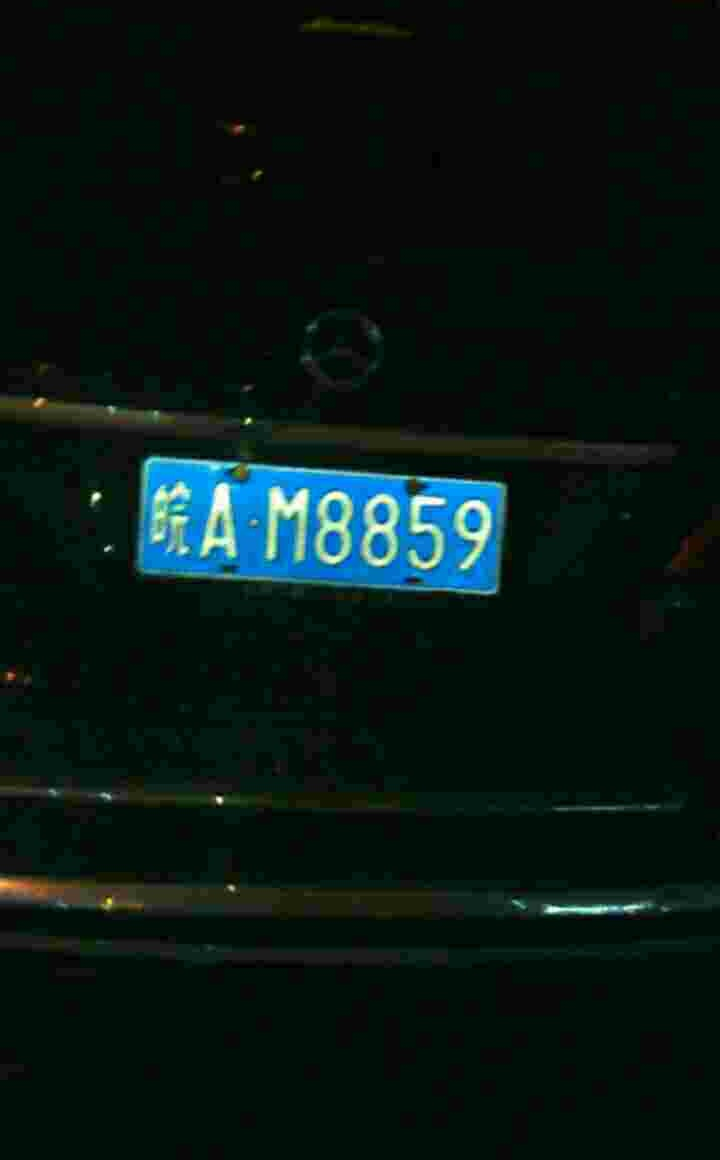car_blue: (134, 454, 513, 609)
